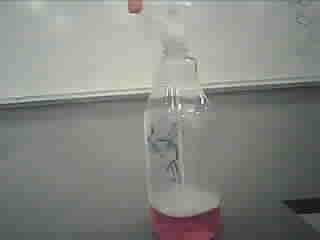hazard: (126, 1, 229, 240)
